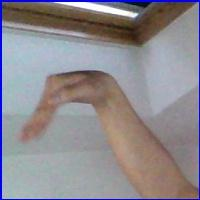del: (12, 71, 123, 153)
